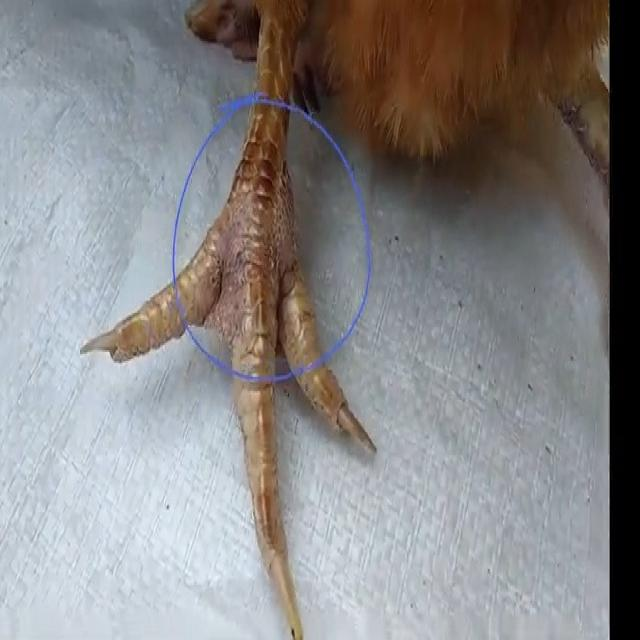bird flu: (69, 0, 636, 640)
